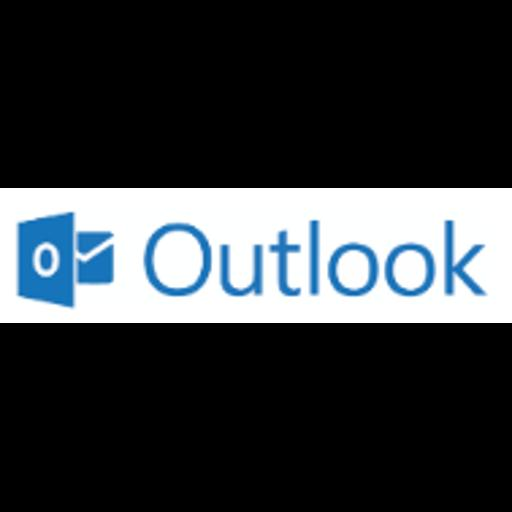Outlook: (0, 188, 512, 323)
